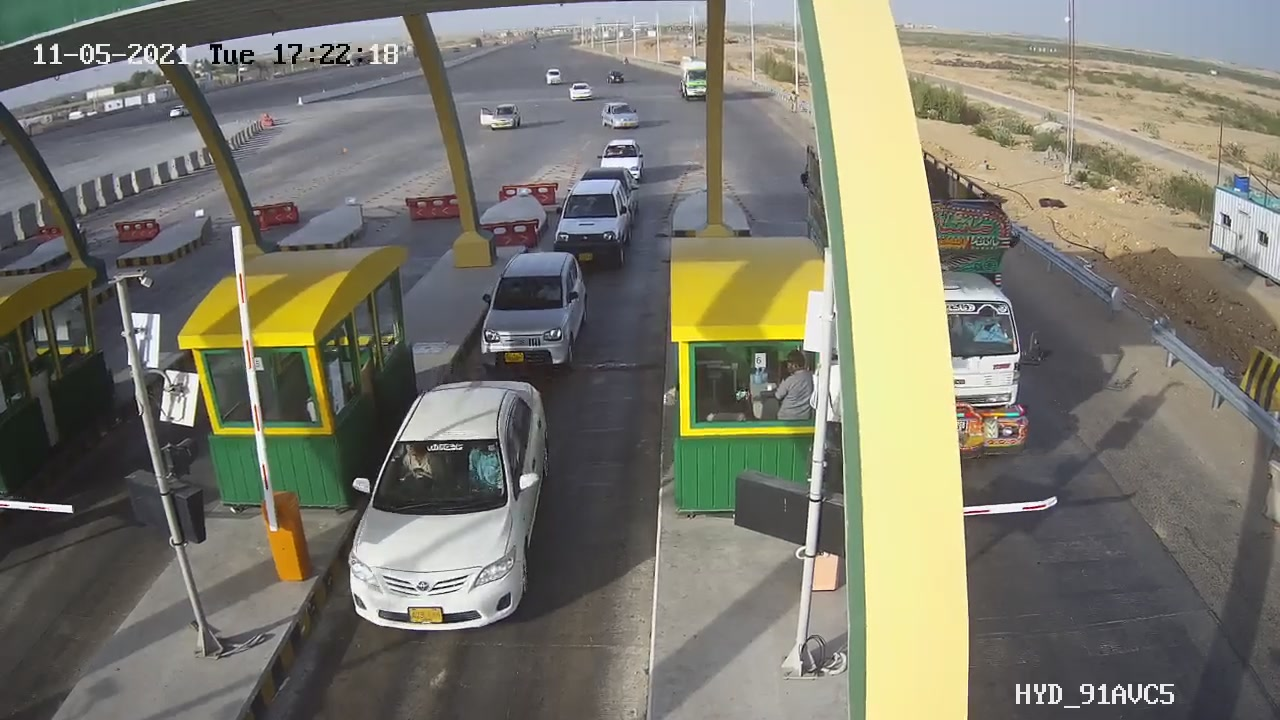F1: (331, 362, 578, 643), (465, 240, 605, 391), (546, 175, 644, 270)
